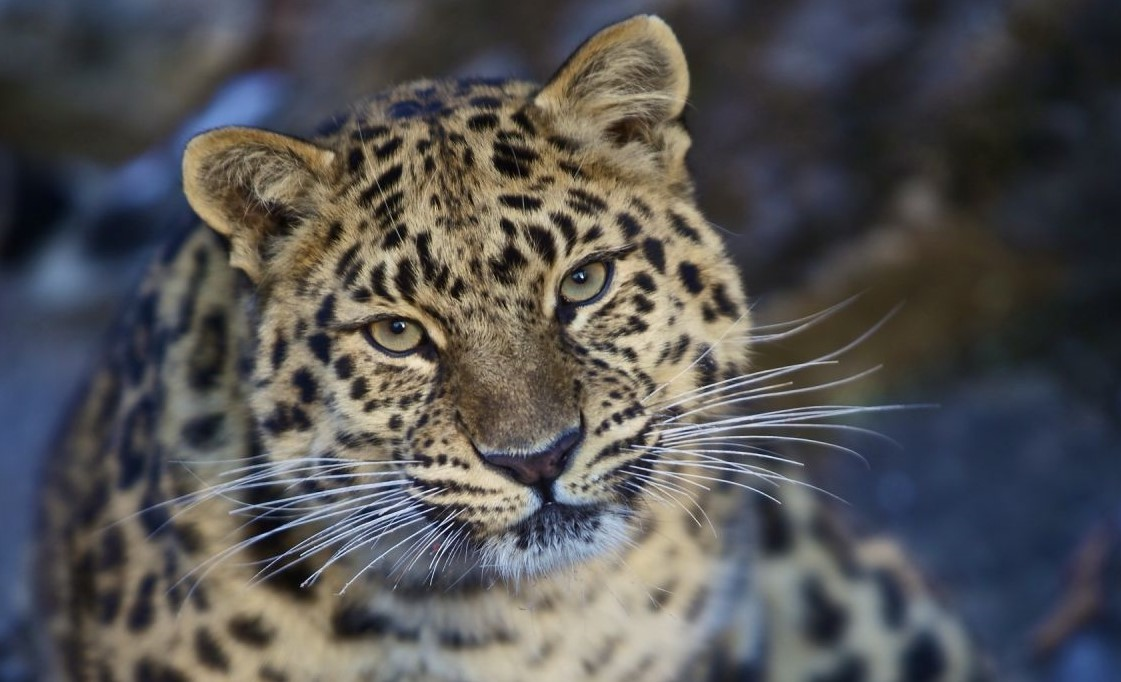amur_leopard: (91, 17, 912, 589)
